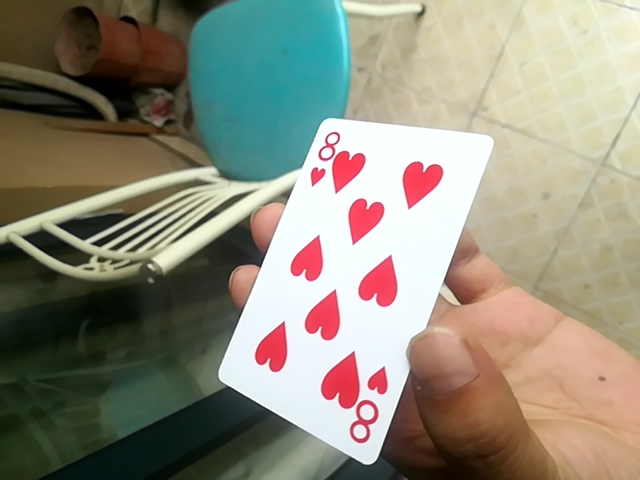hx 8: (216, 120, 489, 463)
